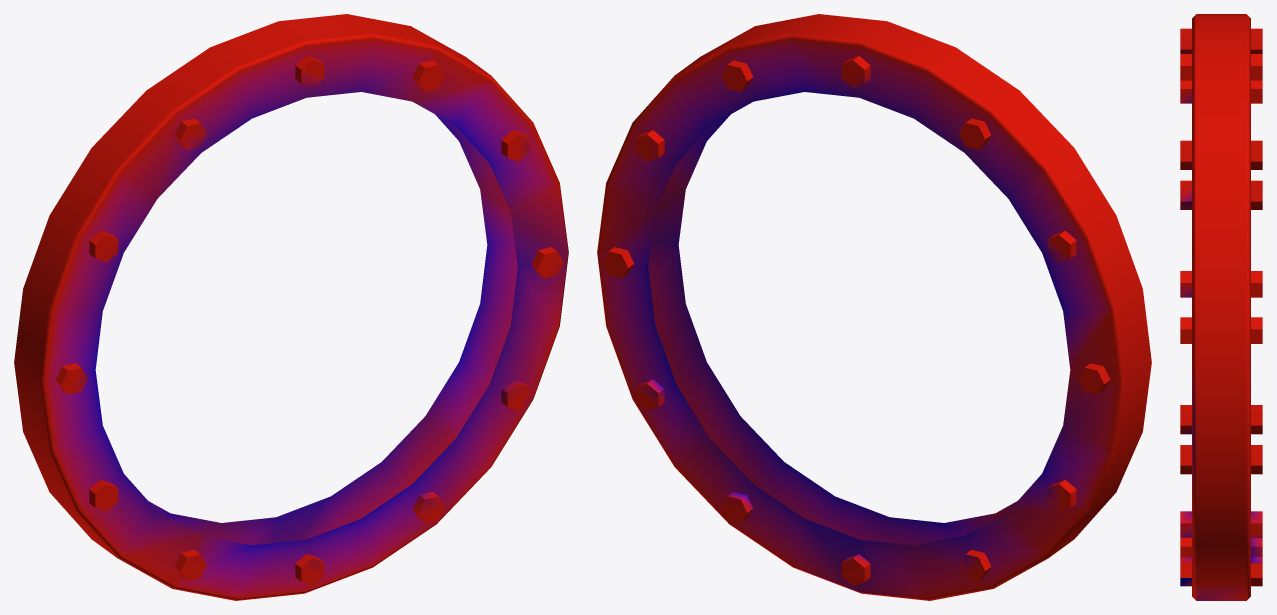
Rendered from PipeRingA.fbx.
3 renders of one model, left to right at view 1: azimuth 30°, elevation 25°; view 2: azimuth 150°, elevation 25°; view 3: azimuth 270°, elevation 25°, orthographic. The views are drawn at different scales.
Visible parts, largest first — view 1: Circle.002; view 2: Circle.002; view 3: Circle.002.
Boxes of the visible parts, left/top/right/bottom form: Circle.002: left=14, top=14, right=568, bottom=600; Circle.002: left=597, top=14, right=1151, bottom=600; Circle.002: left=1180, top=14, right=1262, bottom=600.
Size of the model in its own units: 250 by 250 by 34.95.
